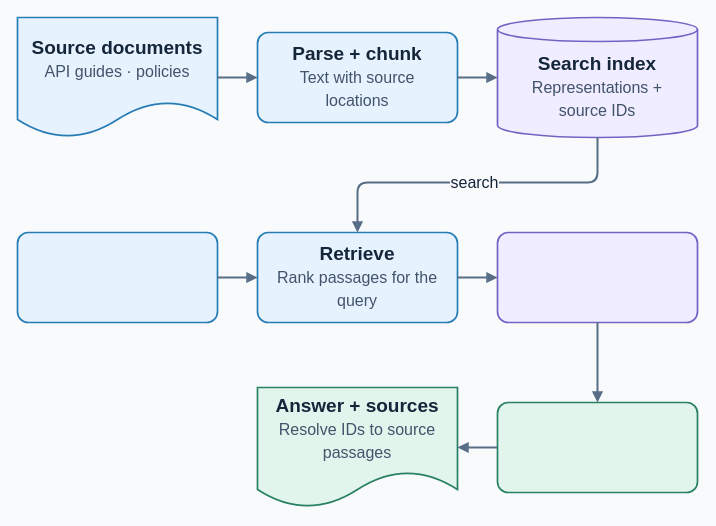
This 716x526 diagram has some shape labels left out. Here are the shapes that lost their labels. From the top down, the centre of each, then its label:
At point 117,277: "Question What does the policy say?".
At point 597,277: "Build prompt Question + selected passages".
At point 597,447: "LLM Generate using the context".
